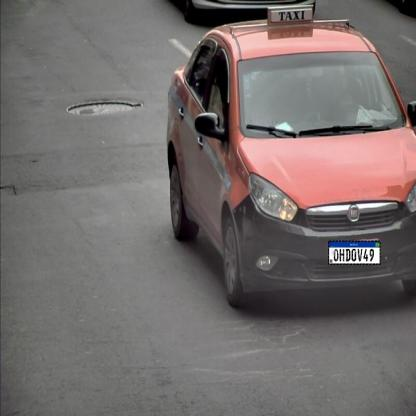PlacaM: (328, 240, 381, 265)
